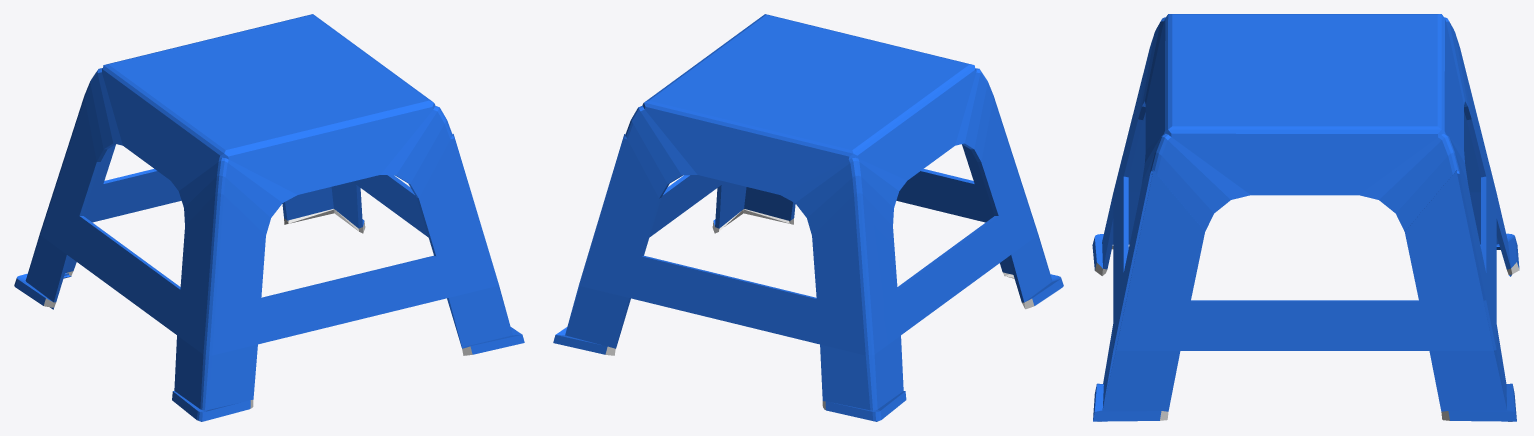
Rendered from blue_stool.fbx.
3 views of the same model, side by side, from view 1: azimuth 30°, elevation 25°; view 2: azimuth 150°, elevation 25°; view 3: azimuth 270°, elevation 25° (orthographic). The views are drawn at different scales.
Visible parts, largest first — view 1: Blue Stool; view 2: Blue Stool; view 3: Blue Stool.
Boxes of the visible parts, box(x1,y1,x2,y2) form: Blue Stool: box(14, 14, 524, 421); Blue Stool: box(553, 14, 1063, 421); Blue Stool: box(1092, 14, 1519, 421).
Bounding box in the file's own units: 82.64 × 56.99 × 83.08.
Materials: 1 (1 with a texture image).
